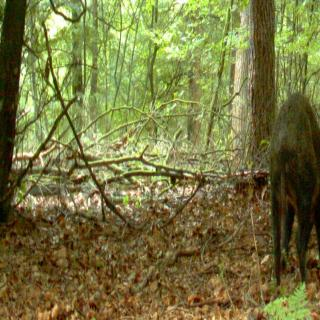Pig: (265, 85, 320, 276)
